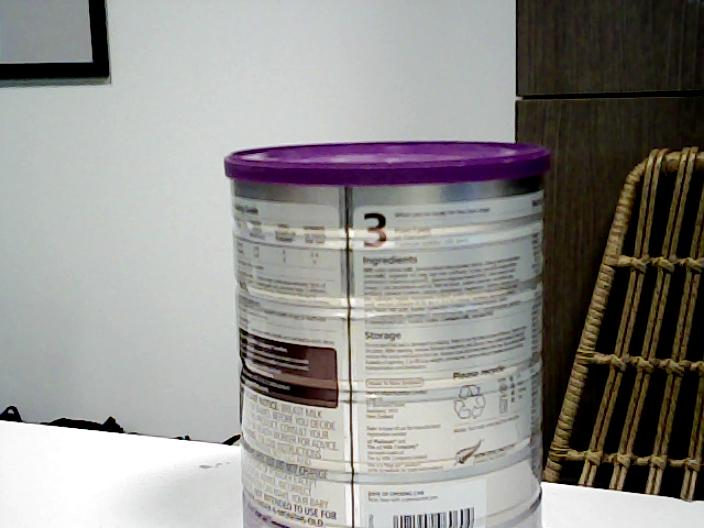Babymilk-powder_900-999g_NonHalal_NonHealthy: (223, 139, 554, 528)
